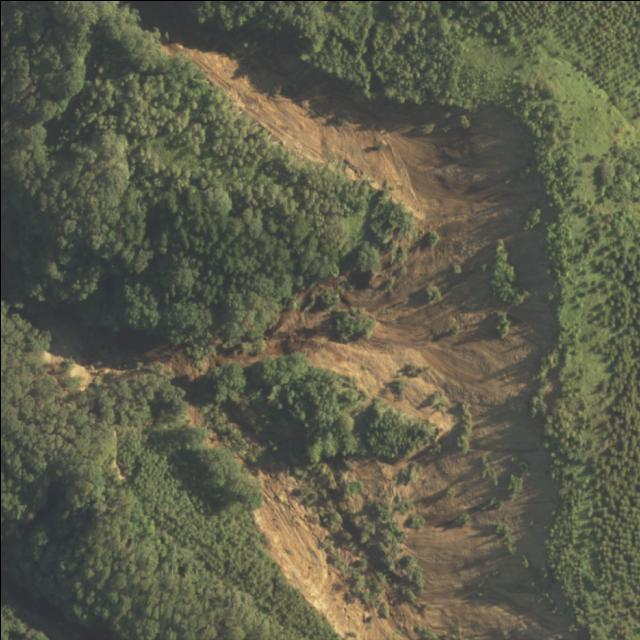landslide: (142, 3, 586, 640), (40, 351, 92, 390)
